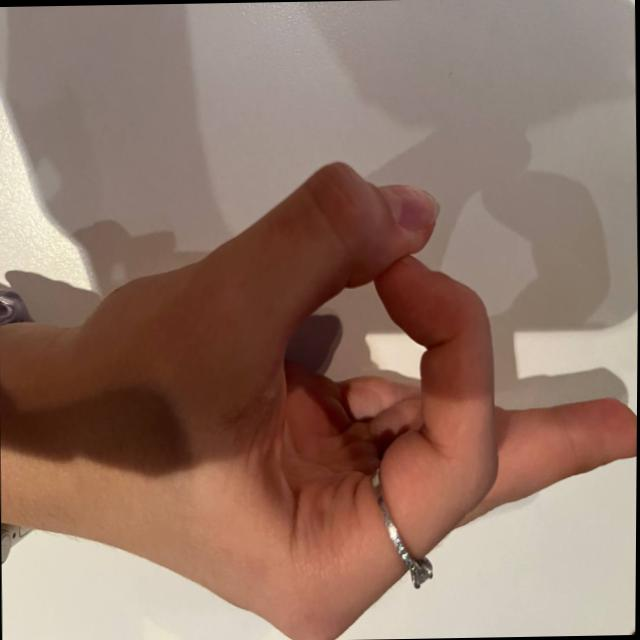o: (159, 139, 630, 640)
